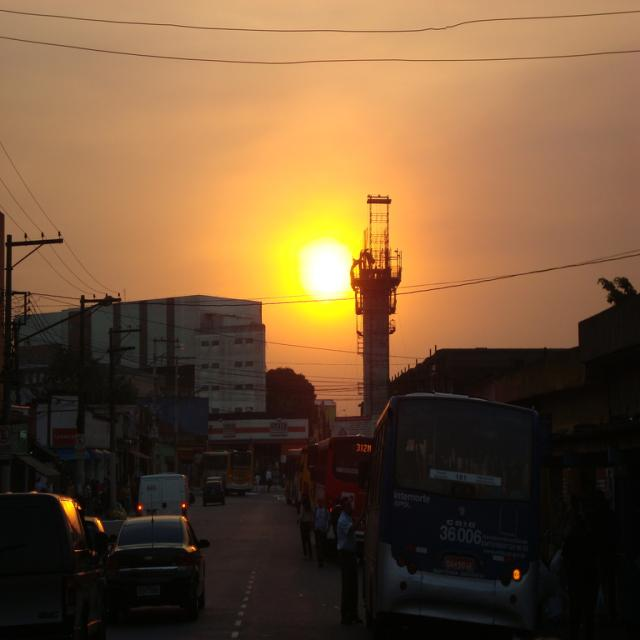car: (0, 494, 106, 639), (109, 517, 208, 612), (83, 512, 108, 548), (202, 472, 223, 504)
